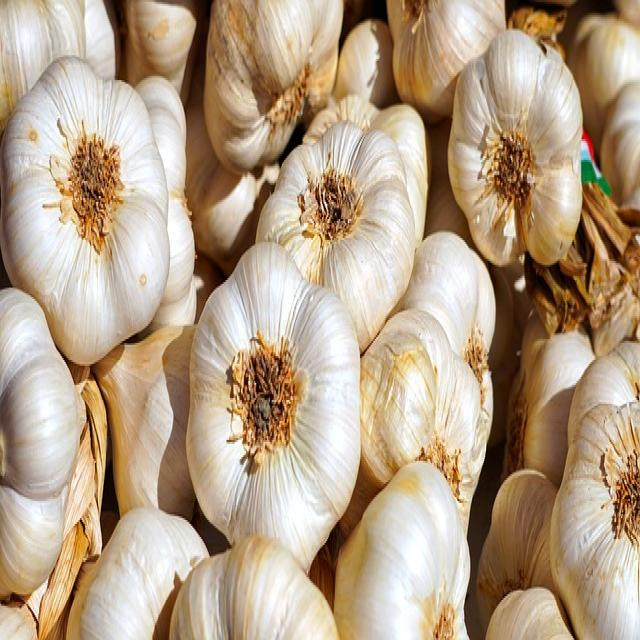garlic: (188, 243, 359, 570), (475, 301, 640, 639), (0, 57, 169, 364), (256, 121, 414, 351), (449, 31, 582, 267), (362, 313, 492, 532), (0, 288, 81, 596), (334, 464, 470, 639), (205, 0, 342, 173), (96, 319, 196, 517), (66, 507, 209, 640), (169, 536, 338, 640), (387, 0, 505, 123)
